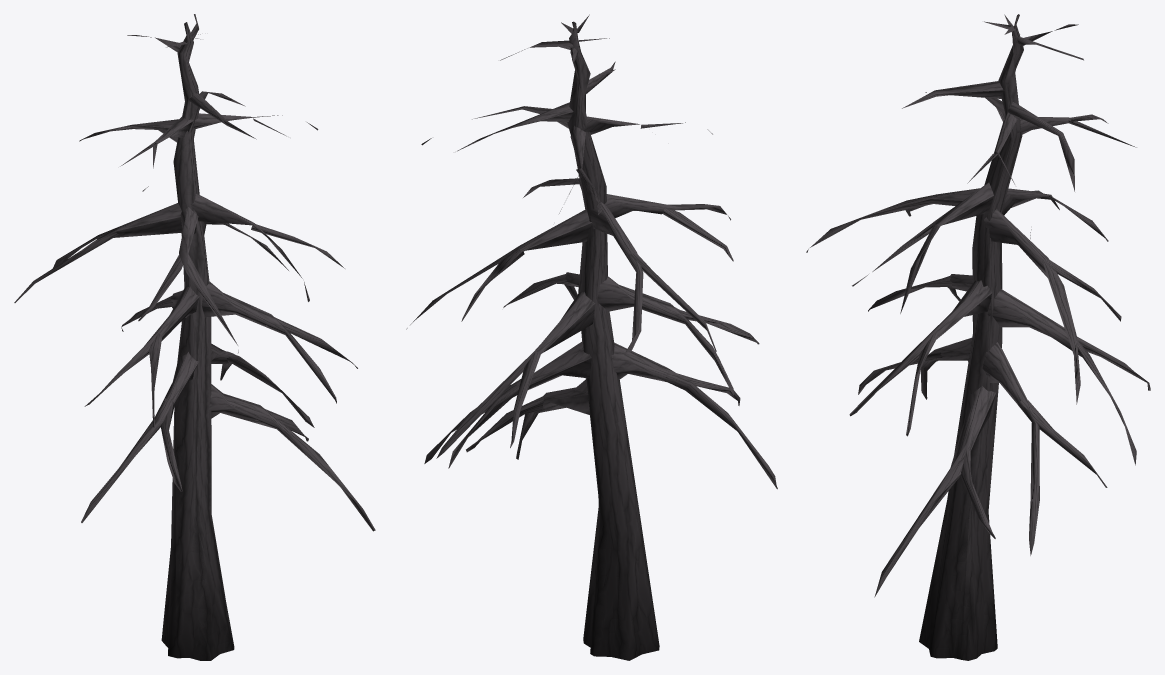
Rendered from DeadTree_5_far.gltf.
The picture shows the model from 3 angles, left to right: view 1: azimuth 30°, elevation 25°; view 2: azimuth 150°, elevation 25°; view 3: azimuth 270°, elevation 25°; orthographic projection. The views are drawn at different scales.
Parts seen in each view (by area): view 1: DeadTree_5; view 2: DeadTree_5; view 3: DeadTree_5.
Part boxes in pixels (<box>): DeadTree_5: <box>14,14,375,660</box>; DeadTree_5: <box>406,14,777,660</box>; DeadTree_5: <box>806,14,1150,660</box>.
Bounding box in the file's own units: 8.34 × 16.44 × 8.04.
Materials: 1 (1 with a texture image).
